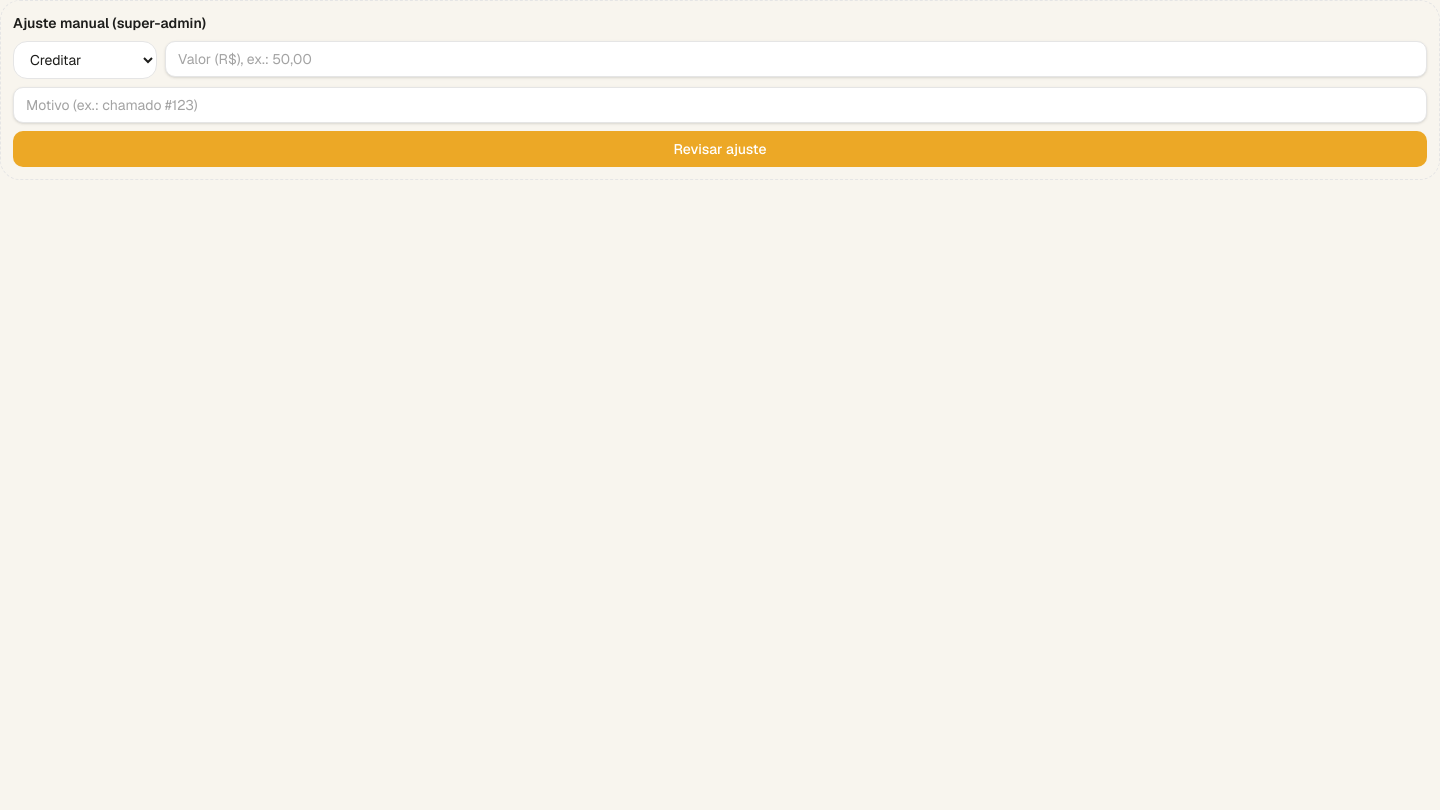
Test: Ajuste manual da carteira › '50.00' é R$ 50,00 (não R$ 5.000,00) e só grava depois de confirmar
This screenshot has width=1440, height=810.
Select "Creditar" in the dropdown named "Sentido do ajuste" at (85, 60), box left=13, top=41, right=157, bottom=79
Type "50.00" into the field labelled "Valor (R$)" at (796, 59), box left=165, top=41, right=1427, bottom=77
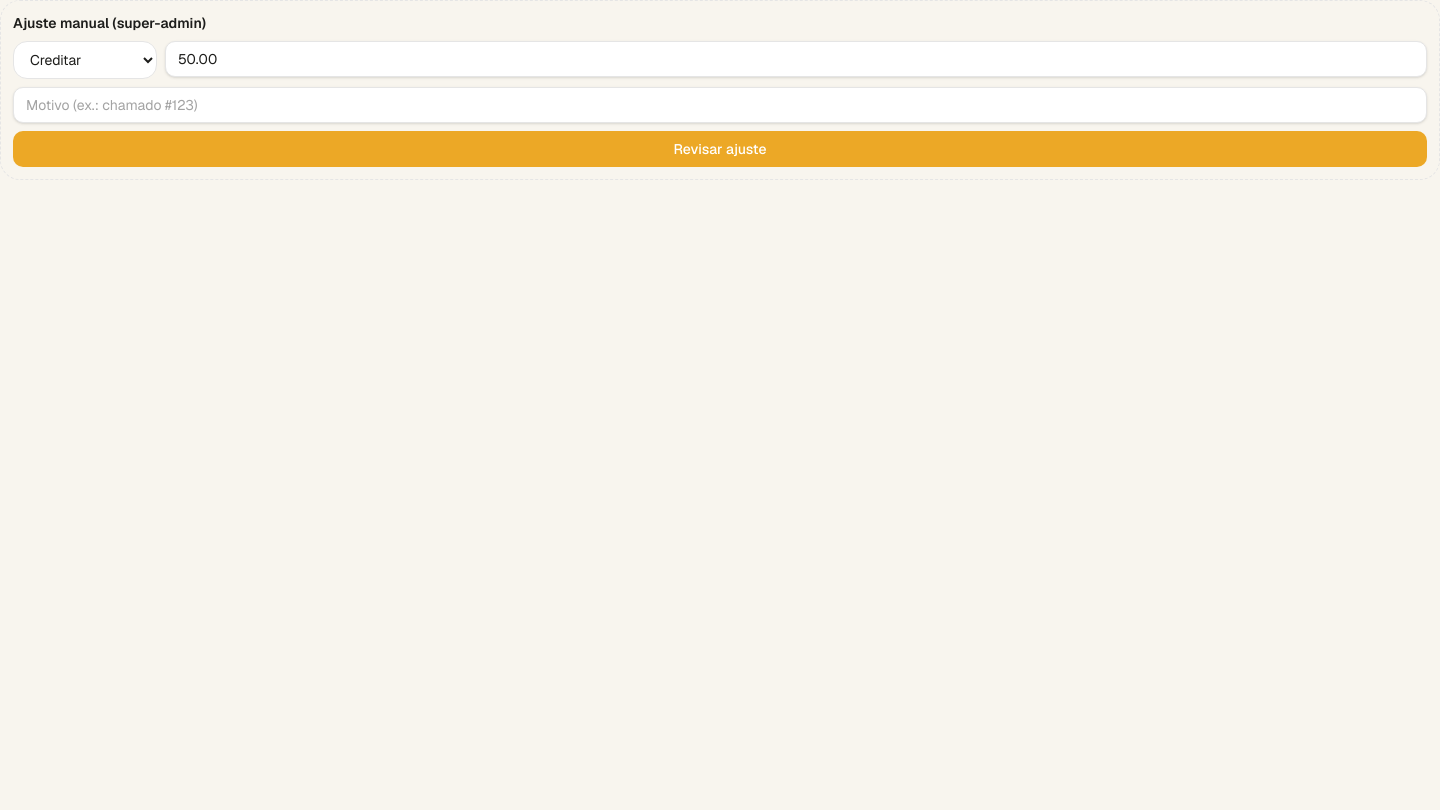
Type "Chamado #123" into the field labelled "Motivo" at (720, 105), box left=13, top=87, right=1427, bottom=123
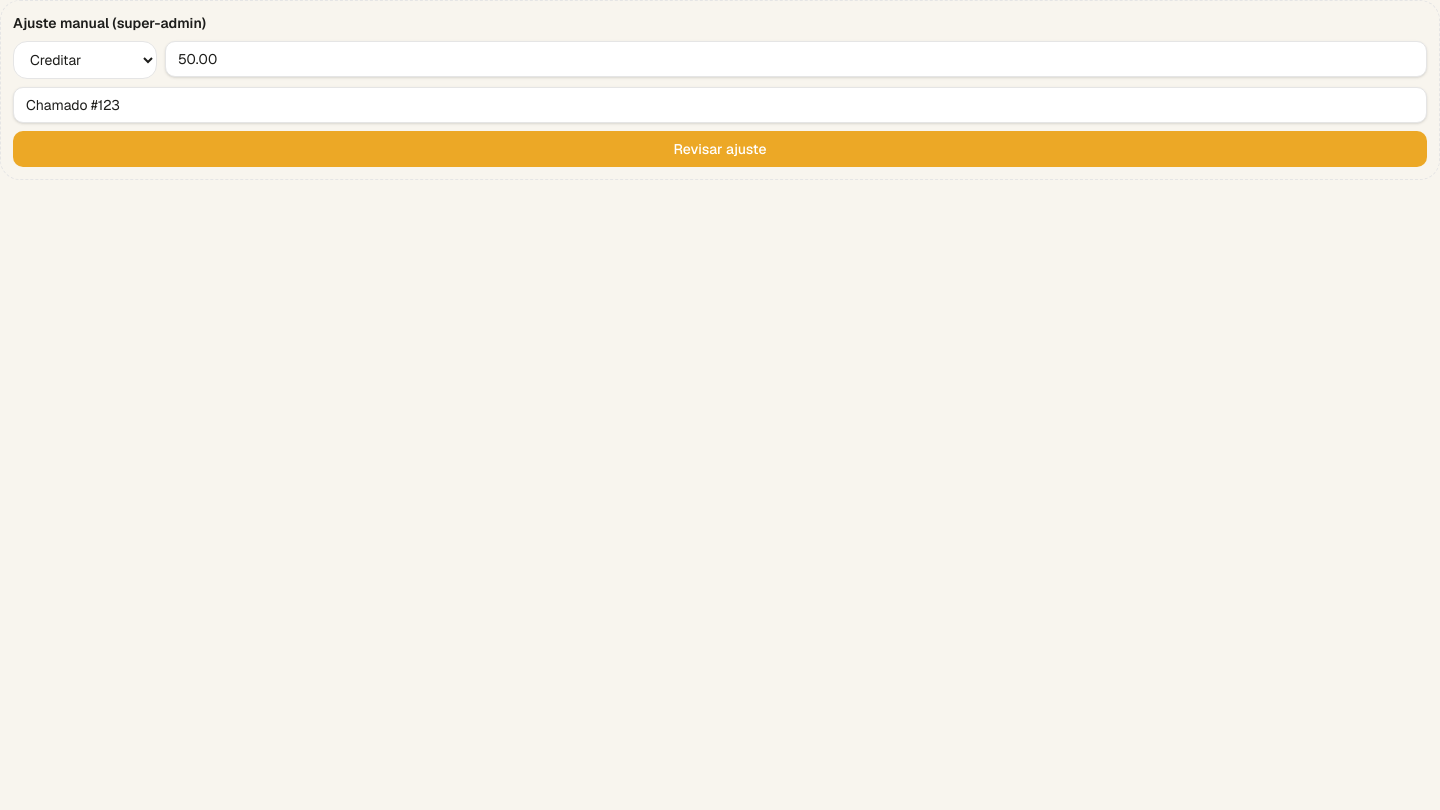
Click the button "Revisar ajuste" at (720, 149), box left=13, top=131, right=1427, bottom=167
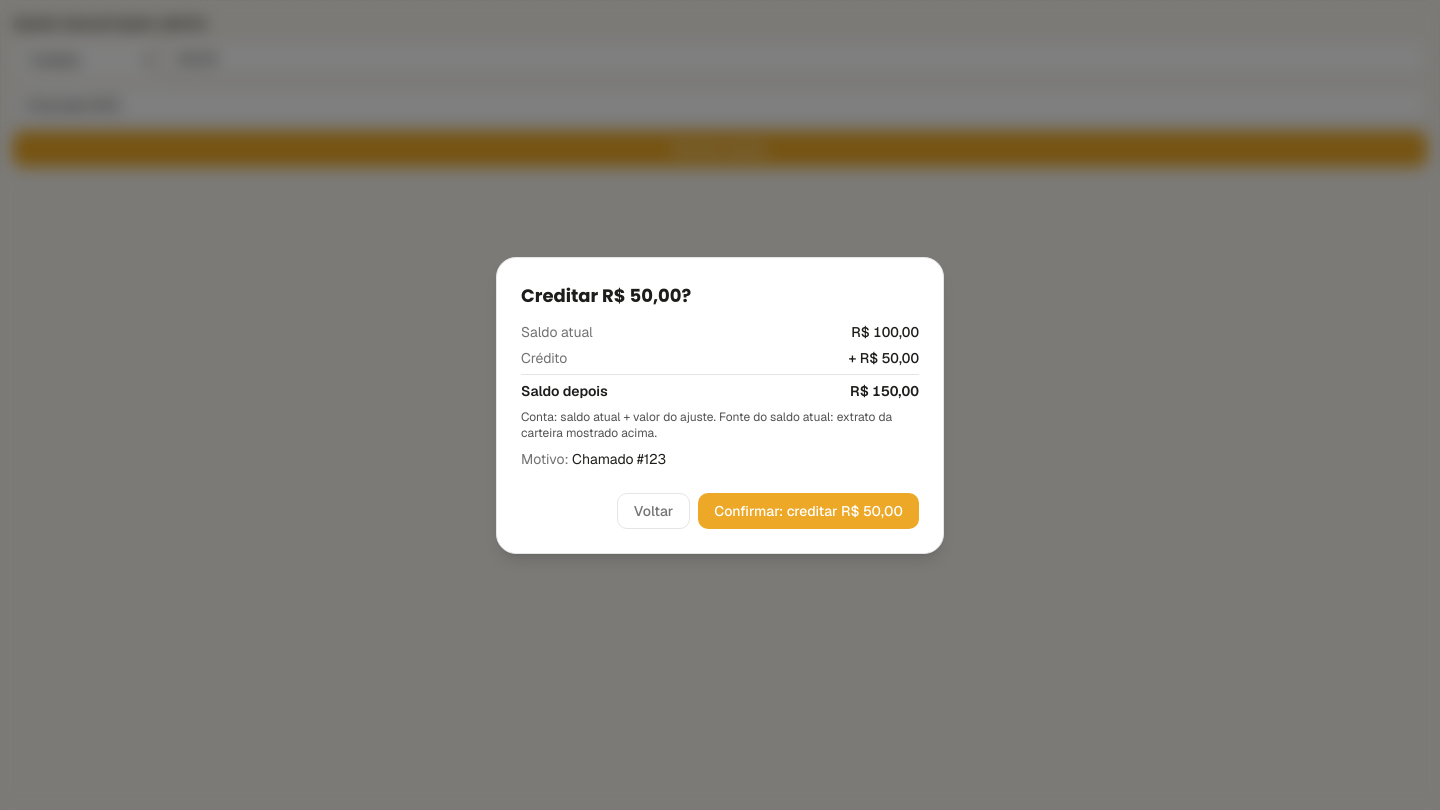
Check: the dialog shows "Creditar R$ 50,00?", box left=521, top=282, right=691, bottom=308
Check: the text with test id "wallet-adjust-after" reads "R$ 150,00", box left=850, top=382, right=919, bottom=400
Check: the dialog shows "Motivo: Chamado #123", box left=496, top=256, right=944, bottom=554
Click the button "Confirmar: creditar R$ 50,00" at (809, 510), box left=698, top=492, right=919, bottom=528
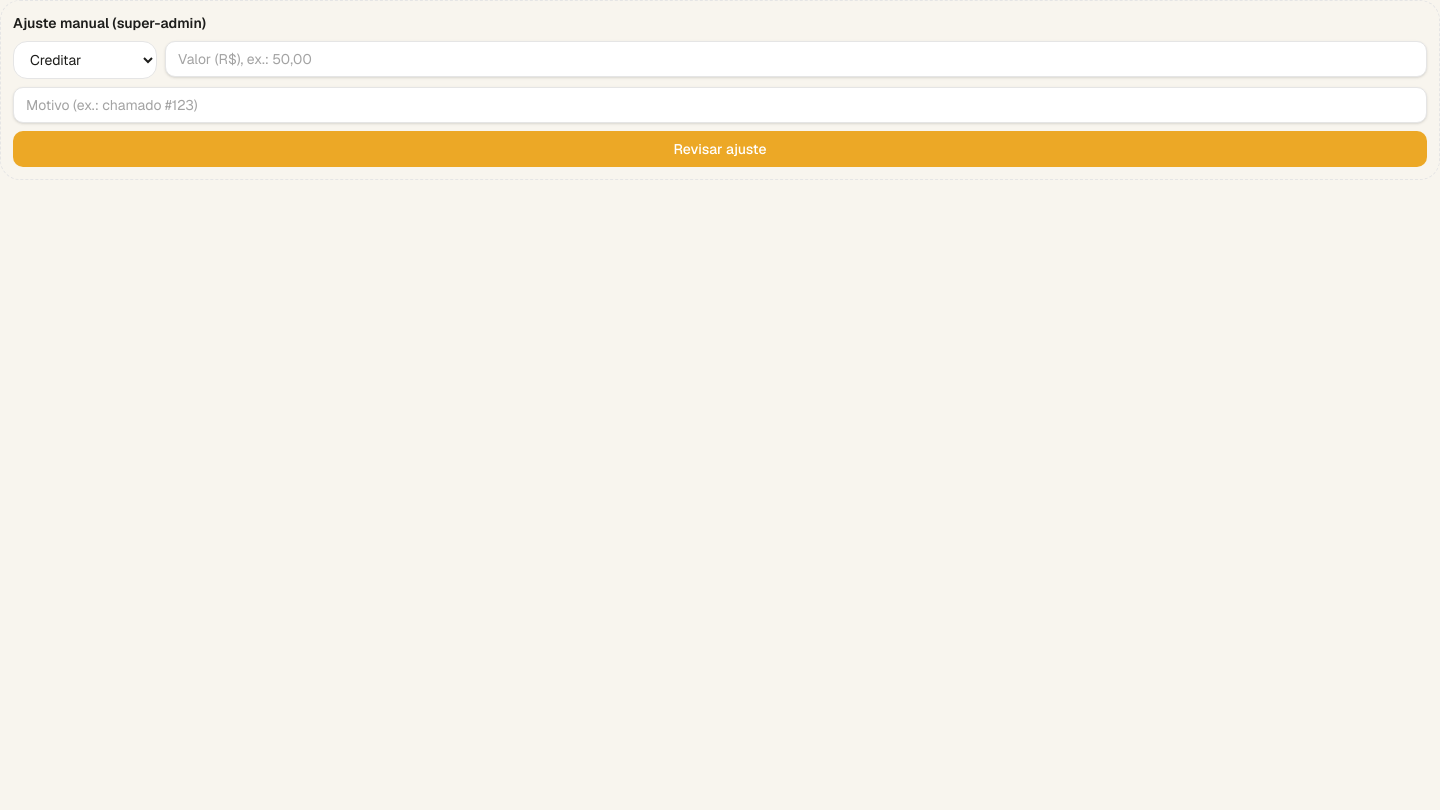
Check: the dialog is gone
